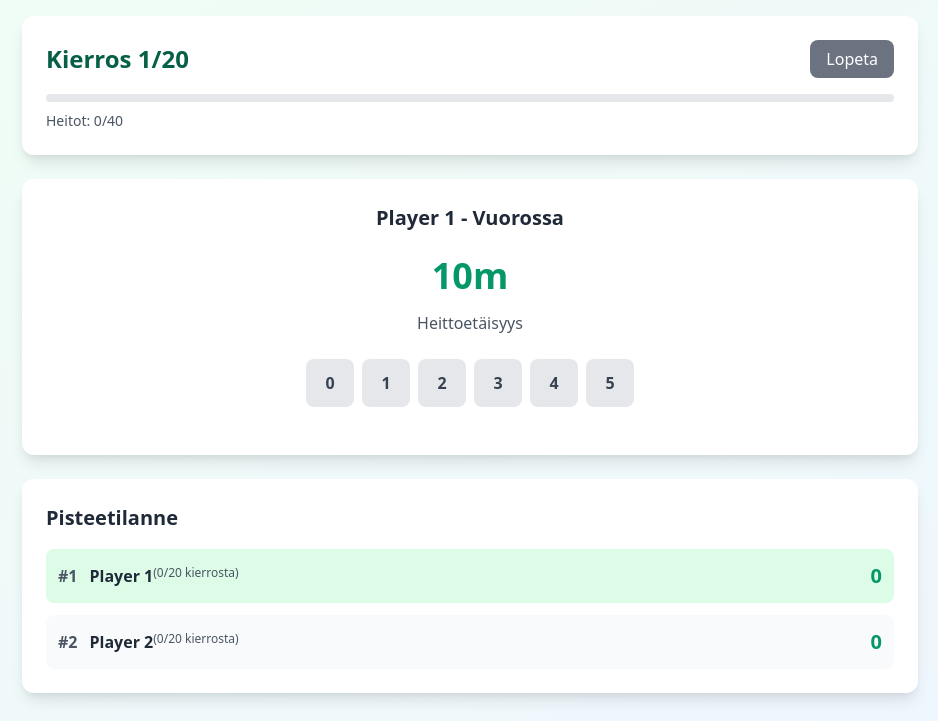
JYLY Components › Multi-player gameplay › should track individual player distances correctly
Player 1: 2 osumaa (seuraava etäisyys 7m)
Click the button "2".
click(442, 383)  # box [418,359,466,407]
Wait 500 ms
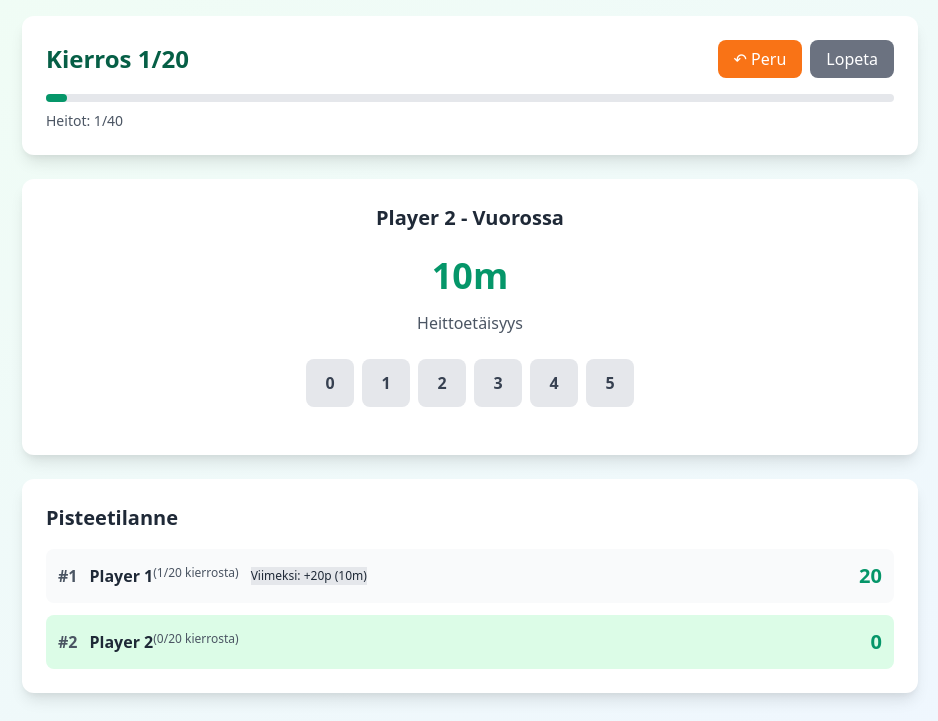
Expected: the text "10m" is shown, [432,251,508,300]
Expected: the heading "Player 2 - Vuorossa" is shown, [376,204,564,231]
Player 2: 4 osumaa (seuraava etäisyys 9m)
Click the button "4".
click(554, 383)  # box [530,359,578,407]
Wait 500 ms
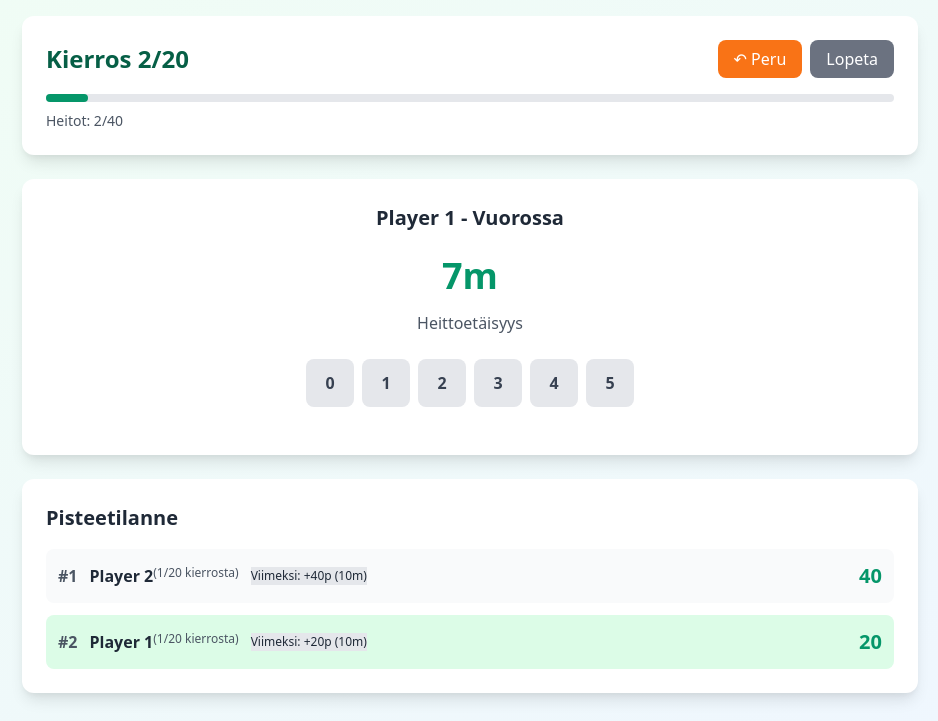
Expected: the heading "Player 1 - Vuorossa" is shown, [376,204,564,231]
Expected: the text "7m" is shown, [442,251,498,300]
